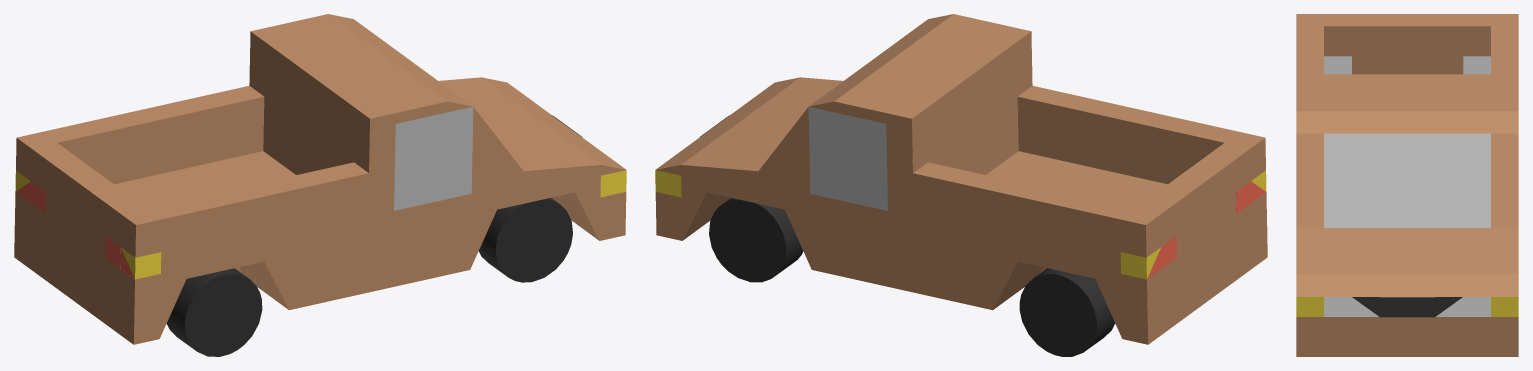
Rendered from car4_pickup_truck_coloured_combined.fbx.
3 views of the same model, side by side, from view 1: azimuth 30°, elevation 25°; view 2: azimuth 150°, elevation 25°; view 3: azimuth 270°, elevation 25° (orthographic). The views are drawn at different scales.
Visible parts, largest first — view 1: SmoothBlockModel6; view 2: SmoothBlockModel6; view 3: SmoothBlockModel6.
Part boxes in pixels (x1,y1,x2,y2): SmoothBlockModel6: [14, 14, 626, 356]; SmoothBlockModel6: [655, 14, 1267, 356]; SmoothBlockModel6: [1296, 14, 1518, 356].
Bounding box in the file's own units: 257 × 613 × 242.
